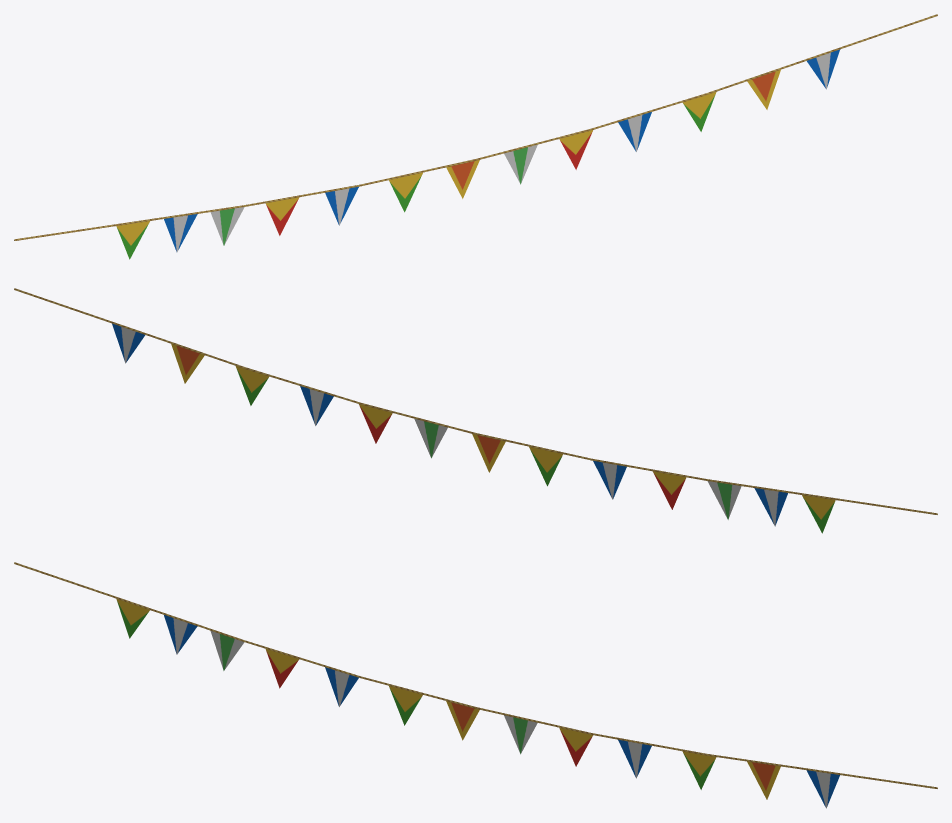
Rendered from Flag_D_01.fbx.
3 views of the same model, one above another, from view 1: azimuth 30°, elevation 25°; view 2: azimuth 150°, elevation 25°; view 3: azimuth 330°, elevation 25° (orthographic).
Visible parts, largest first — view 1: Flag_D_01; view 2: Flag_D_01; view 3: Flag_D_01.
Part boxes in pixels (<box>): Flag_D_01: <box>14,14,937,259</box>; Flag_D_01: <box>14,288,937,533</box>; Flag_D_01: <box>14,562,937,808</box>.
Bounding box in the file's own units: 3408 × 244 × 5.4.
Materials: 1 (1 with a texture image).
